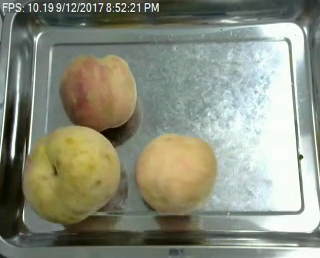Peach: (20, 123, 121, 225), (135, 133, 216, 213), (60, 53, 138, 132)
